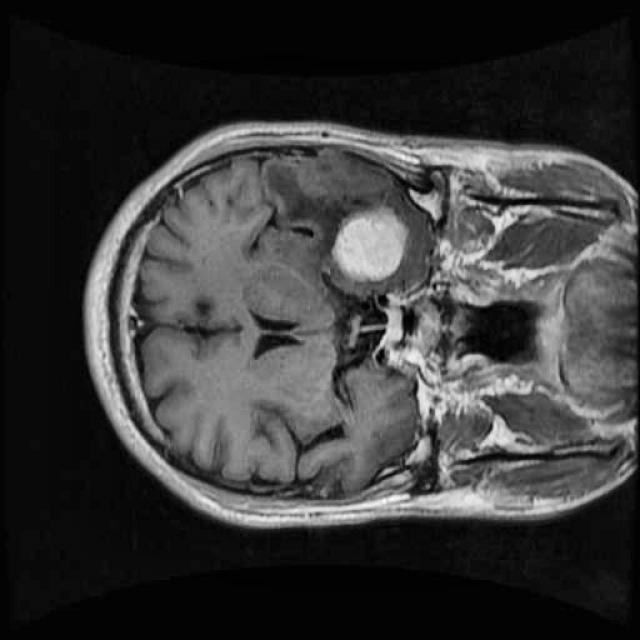Tumor: (324, 196, 412, 290)
